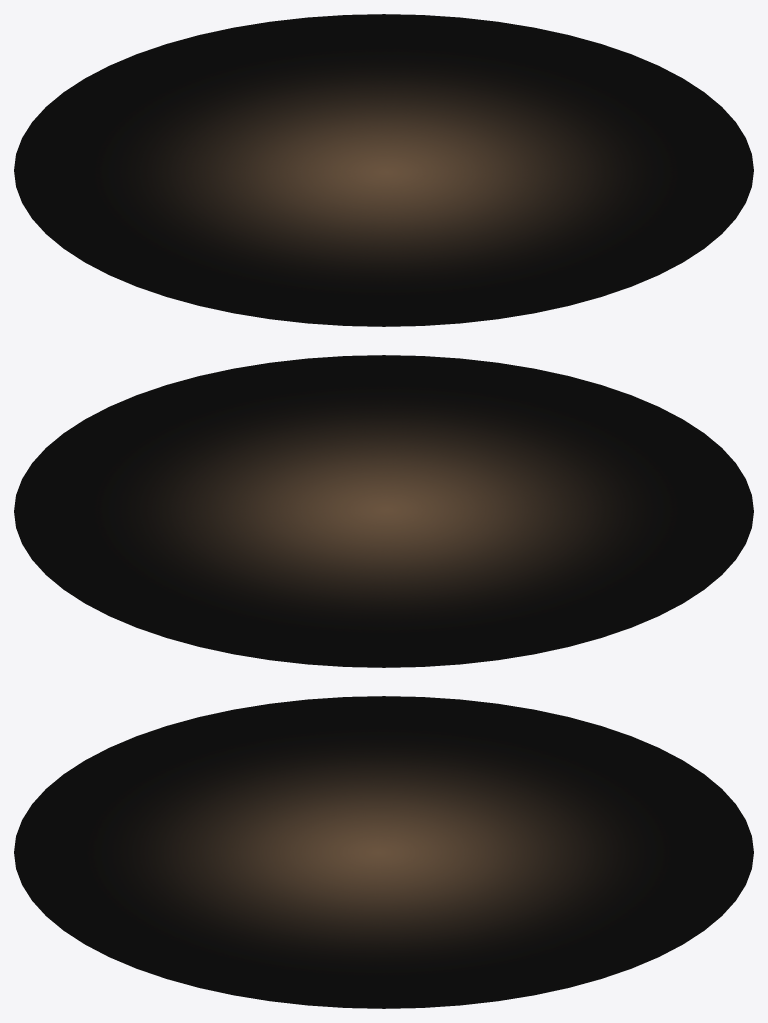
File: platform.glb
3 renders of one model, top to bottom at view 1: azimuth 30°, elevation 25°; view 2: azimuth 150°, elevation 25°; view 3: azimuth 270°, elevation 25°, orthographic.
Parts seen in each view (by area): view 1: Cylinder.033; view 2: Cylinder.033; view 3: Cylinder.033.
Part boxes in pixels (x1,y1,x2,y2): Cylinder.033: (14,14,753,326); Cylinder.033: (14,355,753,667); Cylinder.033: (14,696,753,1008).
Size of the model in its own units: 5.66 by 0 by 5.66.
Materials: 1 (1 with a texture image).
